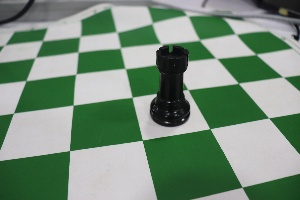black_rook: (142, 28, 198, 127)
